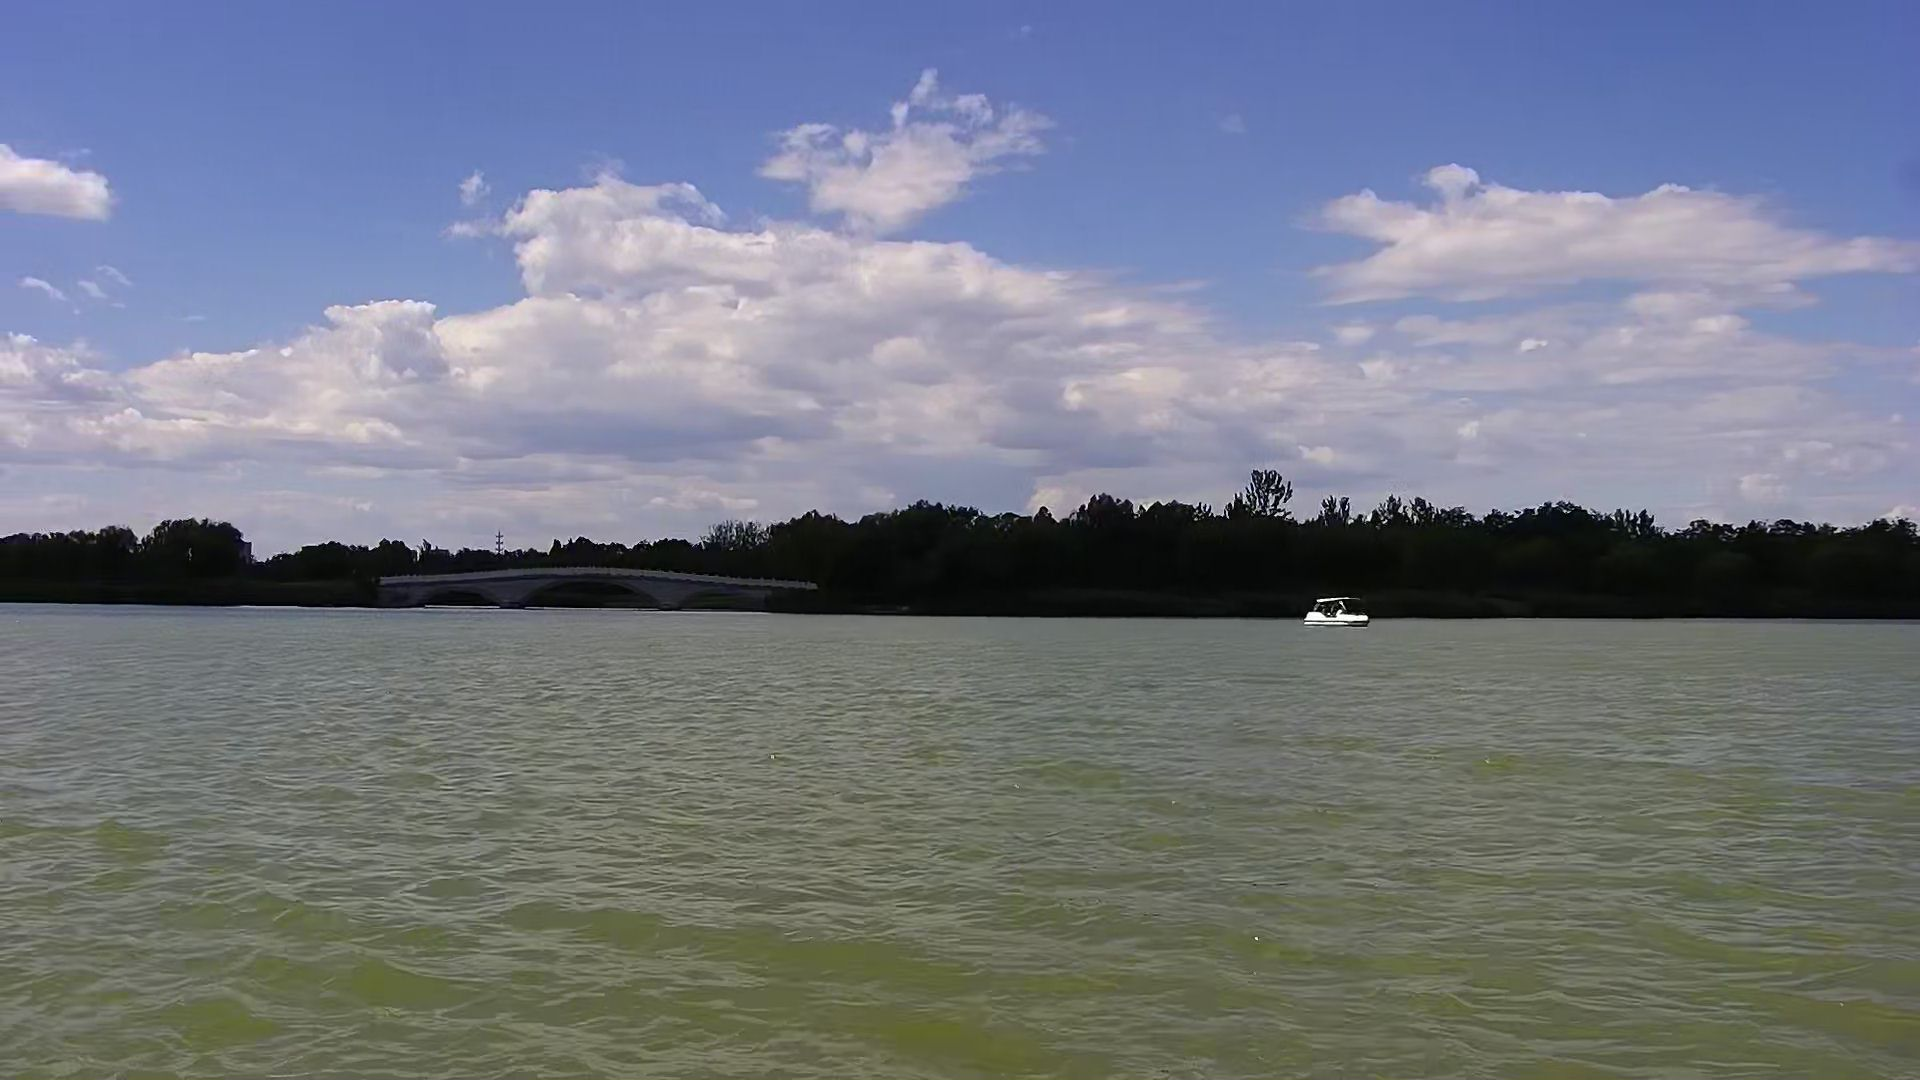boat: (1303, 588, 1375, 636)
bridge: (373, 560, 829, 618)
